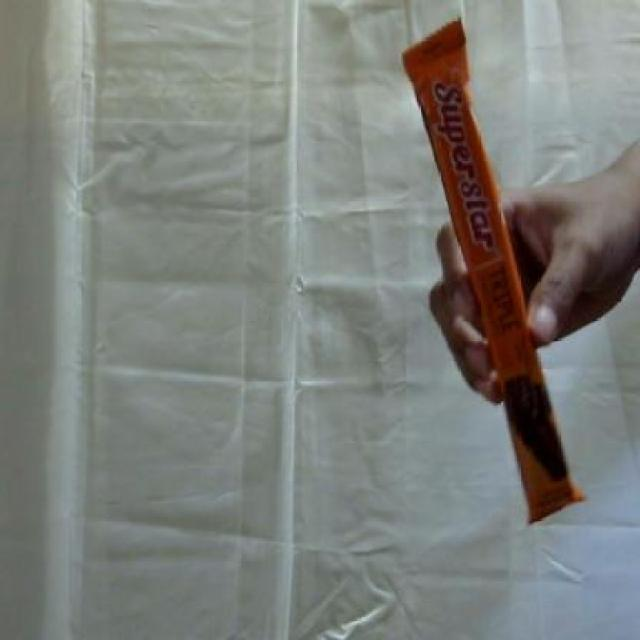Plastic: (402, 16, 585, 527)
